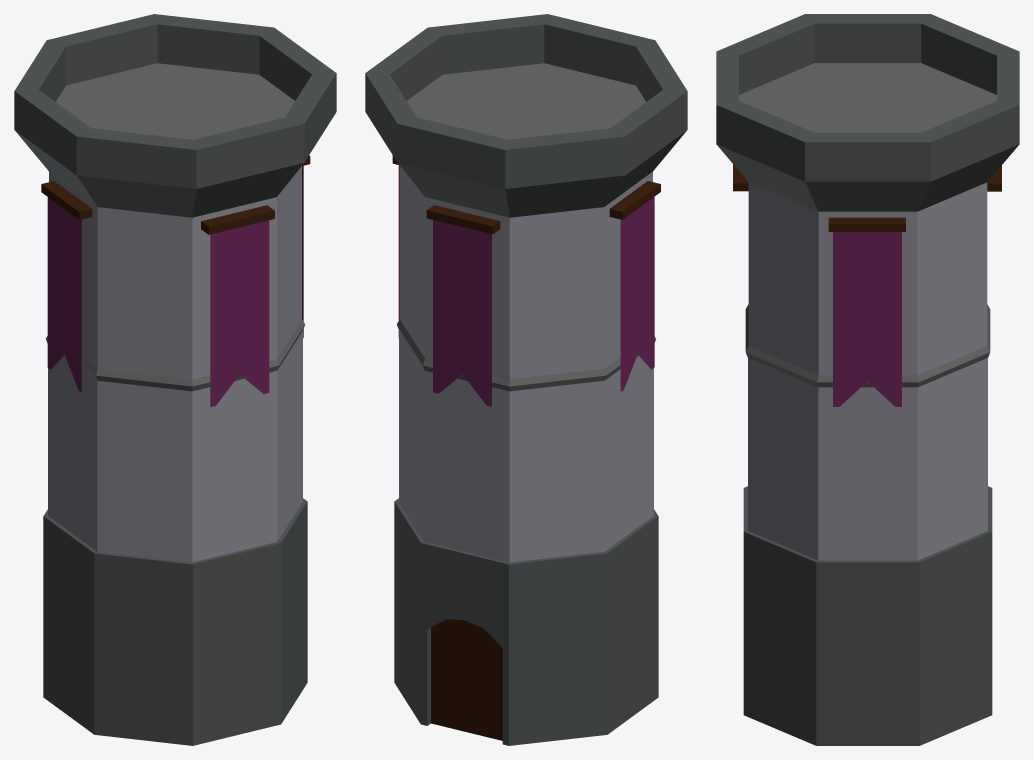
The model's file is Towerv1.fbx.
3 renders of one model, left to right at view 1: azimuth 30°, elevation 25°; view 2: azimuth 150°, elevation 25°; view 3: azimuth 270°, elevation 25°, orthographic.
Parts seen in each view (by area): view 1: Circle.033; view 2: Circle.033; view 3: Circle.033.
Part boxes in pixels (<box>): Circle.033: <box>14,14,336,745</box>; Circle.033: <box>365,14,687,745</box>; Circle.033: <box>716,14,1019,745</box>.
Bounding box in the file's own units: 68.6 × 153 × 68.6.
